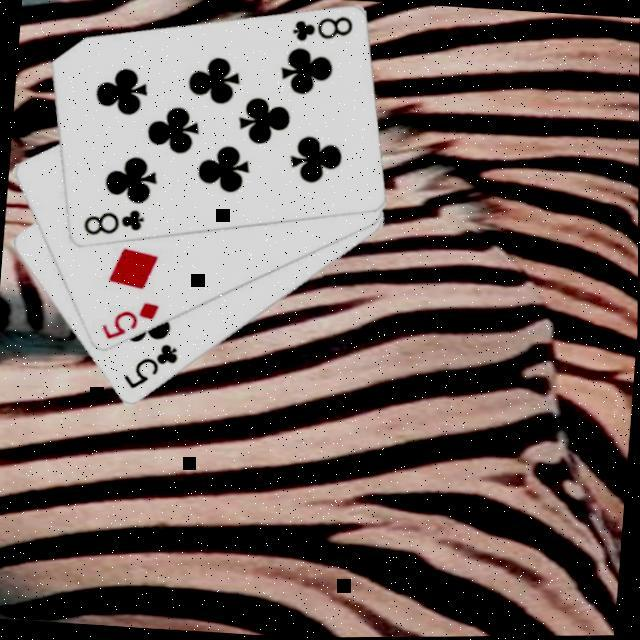5C: (122, 336, 184, 394)
5D: (99, 294, 164, 344)
8C: (81, 200, 149, 240), (290, 8, 358, 46)
